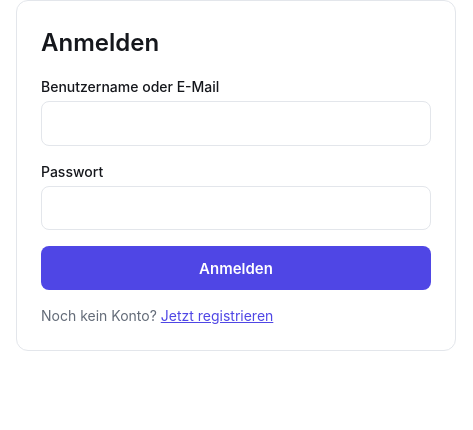
Test: LoginPage › shows the conflict message from the error envelope
The width and height of the screenshot is (473, 430).
In the field labelled "Benutzername oder E-Mail": point(236, 123) [41, 101, 431, 146], type "alice"
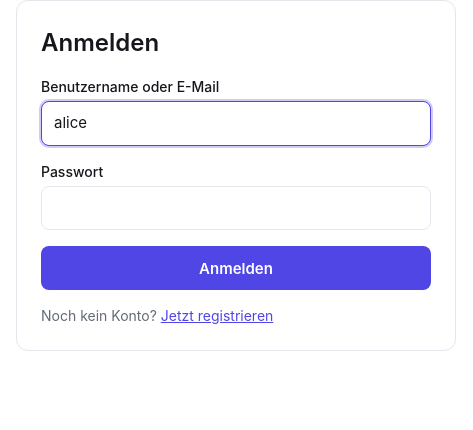
In the password field labelled "Passwort": point(236, 208) [41, 186, 431, 230], type "SichereS3!chens"
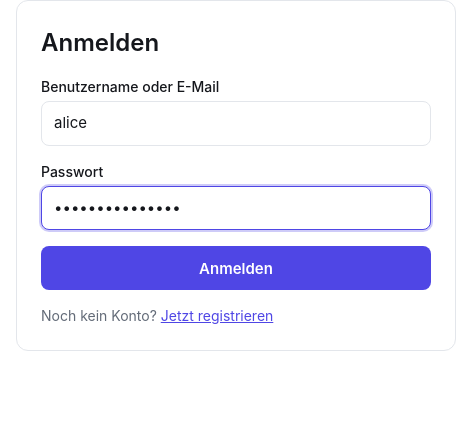
Click the button "Anmelden": point(236, 268) [41, 246, 431, 290]
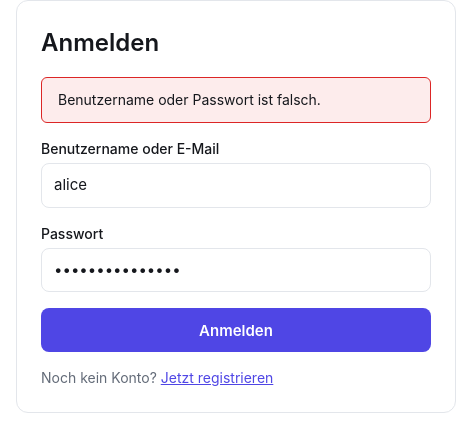
Result: the text "Benutzername oder Passwort ist falsch." is shown at [41, 77, 431, 123]
